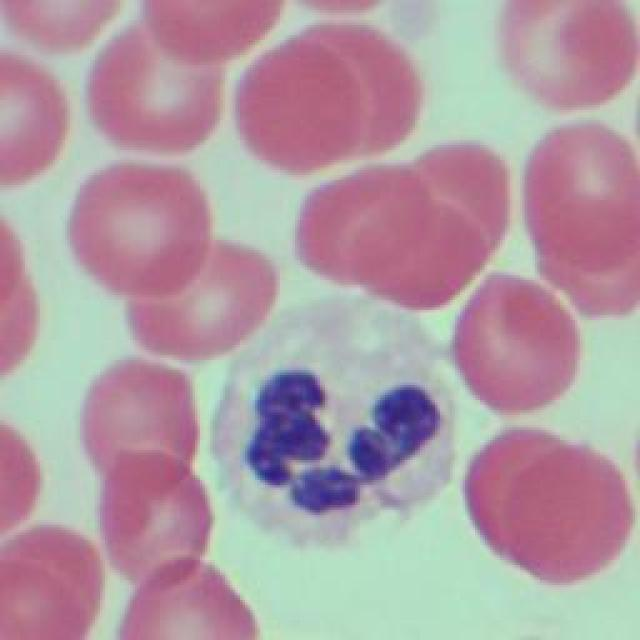RBC: (284, 21, 421, 159), (234, 38, 366, 178), (90, 28, 228, 160), (68, 166, 210, 294), (124, 240, 276, 358), (522, 120, 640, 270), (507, 445, 635, 583), (456, 274, 582, 414), (295, 166, 435, 284), (466, 428, 589, 560), (101, 455, 211, 587), (502, 0, 636, 108), (82, 364, 196, 488), (369, 201, 489, 311), (116, 557, 258, 640), (542, 200, 640, 318), (412, 141, 512, 254), (0, 525, 110, 617), (0, 54, 68, 186), (140, 0, 282, 60), (0, 554, 95, 636), (0, 0, 122, 57), (0, 422, 40, 538), (0, 272, 38, 372), (0, 222, 28, 308)
WBC: (209, 294, 461, 546)
